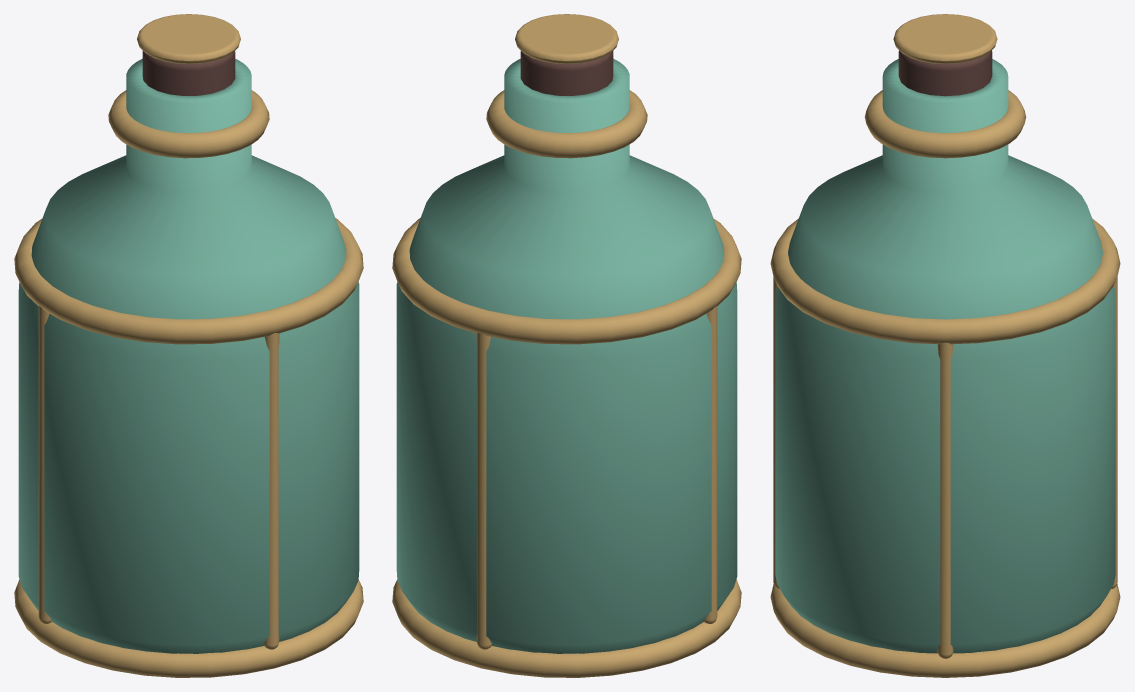
Rendered from relic_aurora.glb.
3 renders of one model, left to right at view 1: azimuth 30°, elevation 25°; view 2: azimuth 150°, elevation 25°; view 3: azimuth 270°, elevation 25°, orthographic.
Parts seen in each view (by area): view 1: relic_aurora; view 2: relic_aurora; view 3: relic_aurora.
Part boxes in pixels (bbox=[...]): relic_aurora: bbox=[14, 14, 363, 677]; relic_aurora: bbox=[392, 14, 741, 677]; relic_aurora: bbox=[770, 14, 1120, 677].
Bounding box in the file's own units: 0.39 × 0.712 × 0.39.
